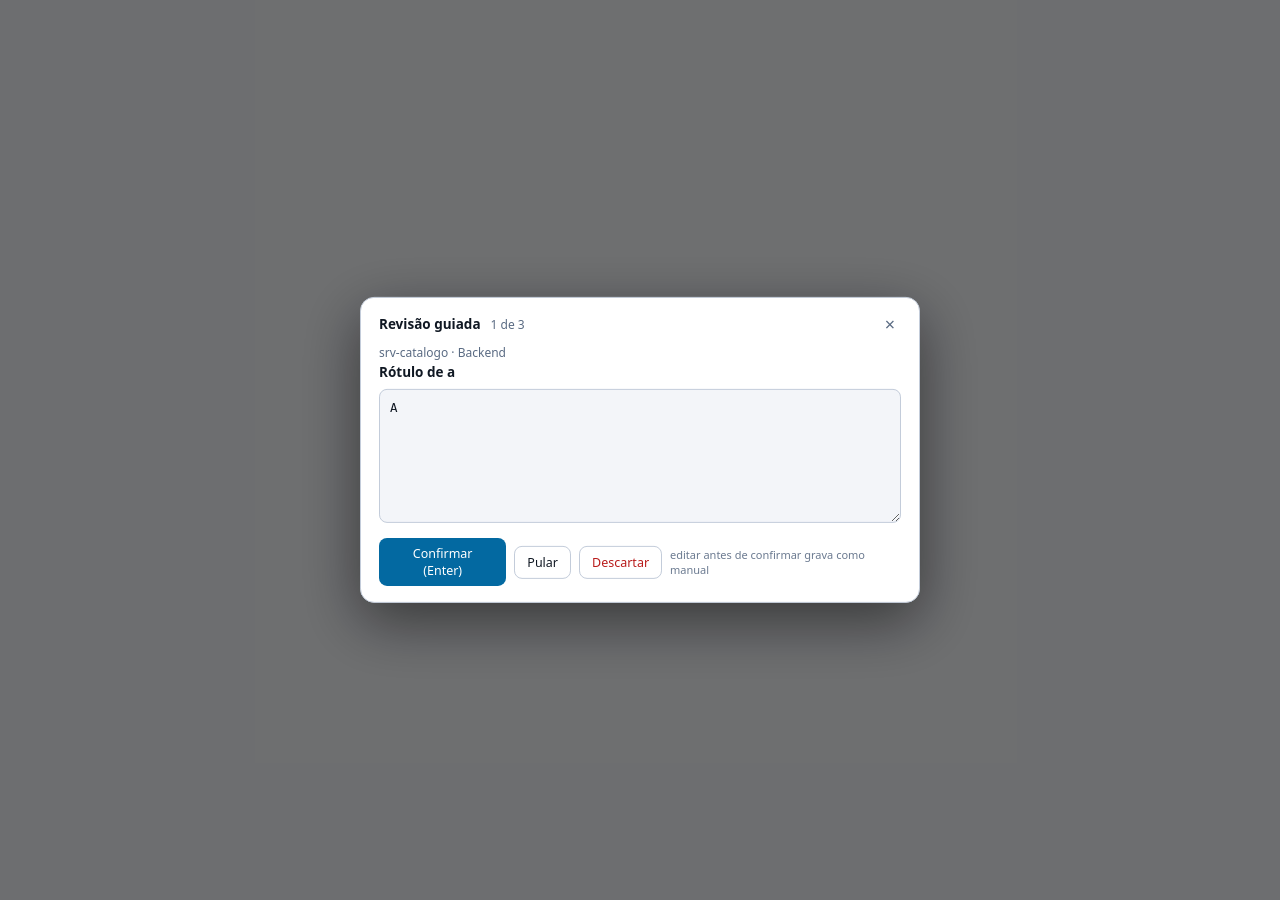
Test: FilaDeRevisao (SPEC-44 Fase 2) › Pular avança sem gravar nada; Descartar remove e avança
Click the button with test id "fila-pular". click: {"x": 543, "y": 562}
box: [514, 546, 571, 579]
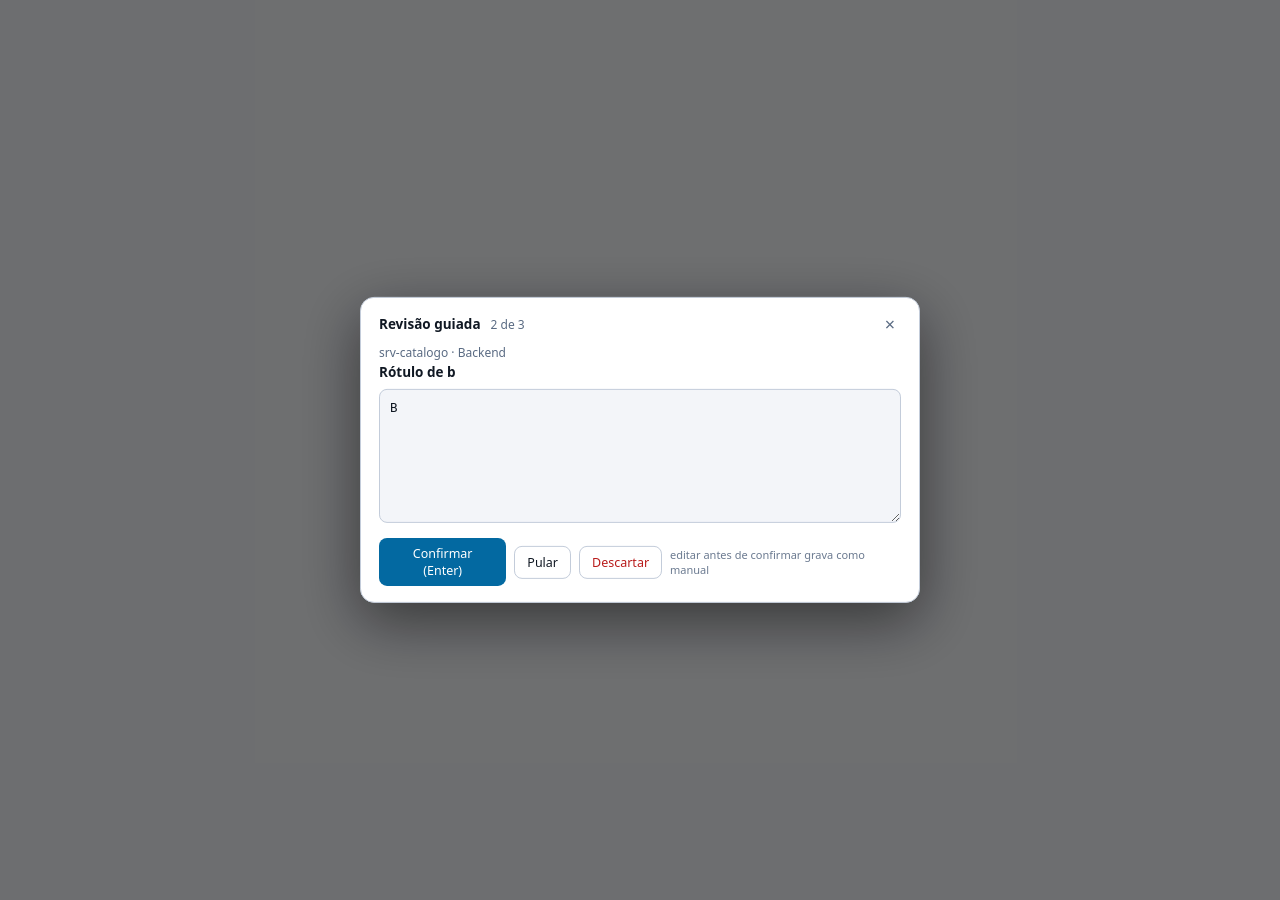
Result: the text with test id "fila-rotulo" reads "Rótulo de b" at [379, 363, 456, 381]
Click the button with test id "fila-descartar". click: {"x": 620, "y": 562}
box: [579, 546, 662, 579]
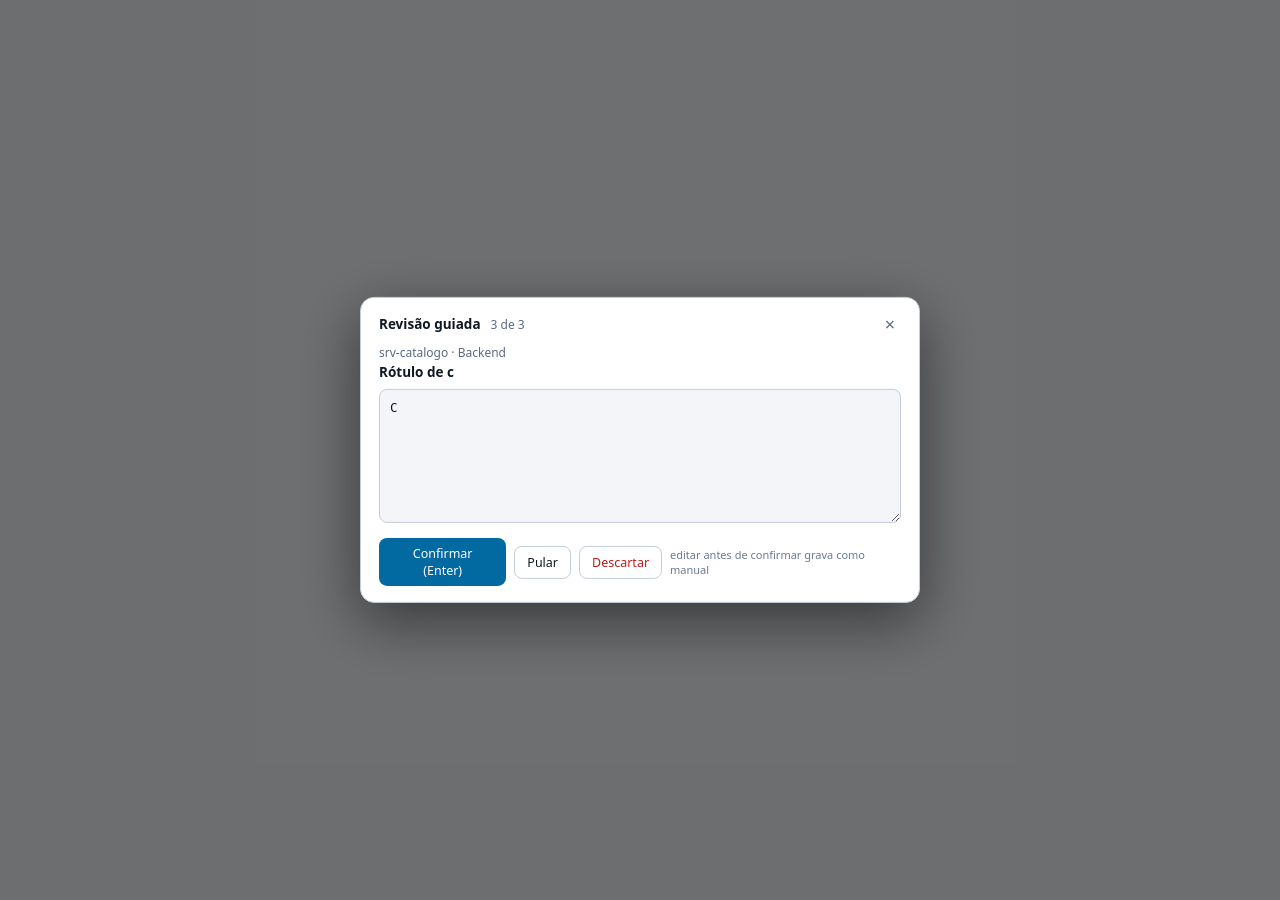
Result: the text with test id "fila-rotulo" reads "Rótulo de c" at [379, 363, 454, 381]
